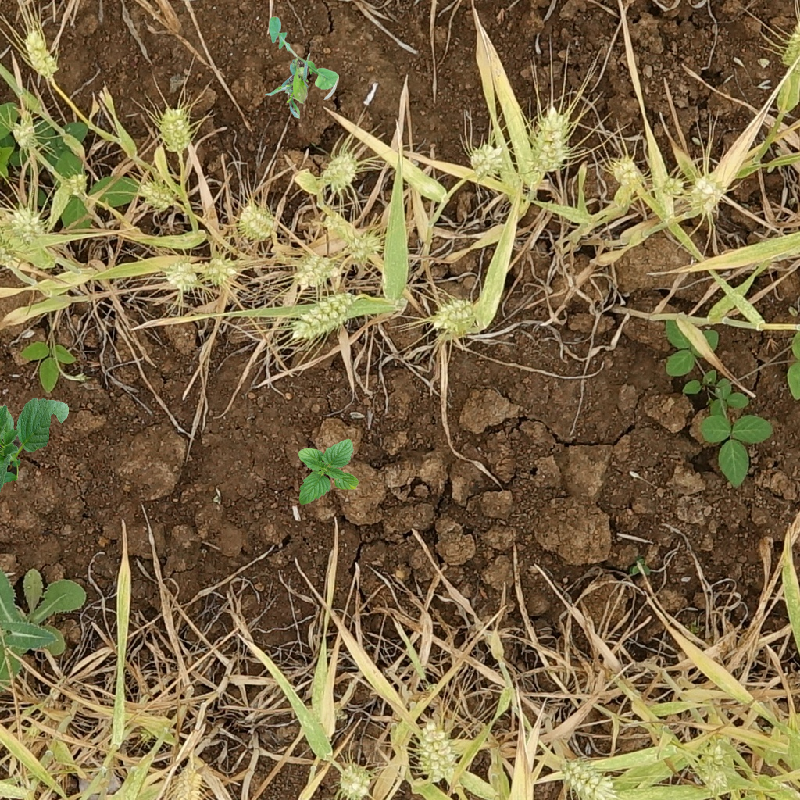spikelet: (289, 290, 356, 340), (530, 104, 572, 175), (561, 757, 626, 800), (415, 718, 457, 783), (694, 737, 735, 794), (429, 295, 478, 335), (22, 26, 58, 78), (157, 104, 194, 152), (319, 149, 359, 192), (6, 203, 48, 243), (237, 201, 278, 240), (686, 173, 723, 215), (293, 251, 336, 287), (166, 763, 205, 800), (468, 140, 503, 178), (337, 762, 372, 799), (137, 178, 176, 211), (163, 258, 200, 292), (607, 153, 641, 188), (345, 229, 381, 262), (202, 254, 237, 284), (10, 115, 39, 151), (780, 17, 800, 69), (64, 170, 89, 197)
weed: (660, 315, 775, 487), (1, 569, 92, 689), (265, 17, 339, 119), (1, 398, 69, 496), (298, 439, 359, 505)
